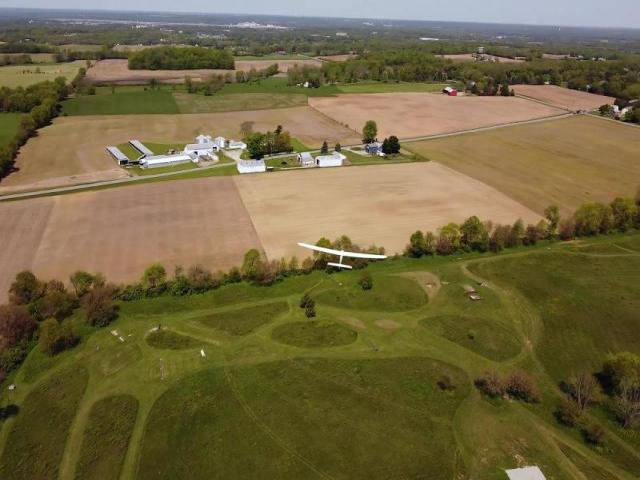hedef: (294, 234, 393, 278)
